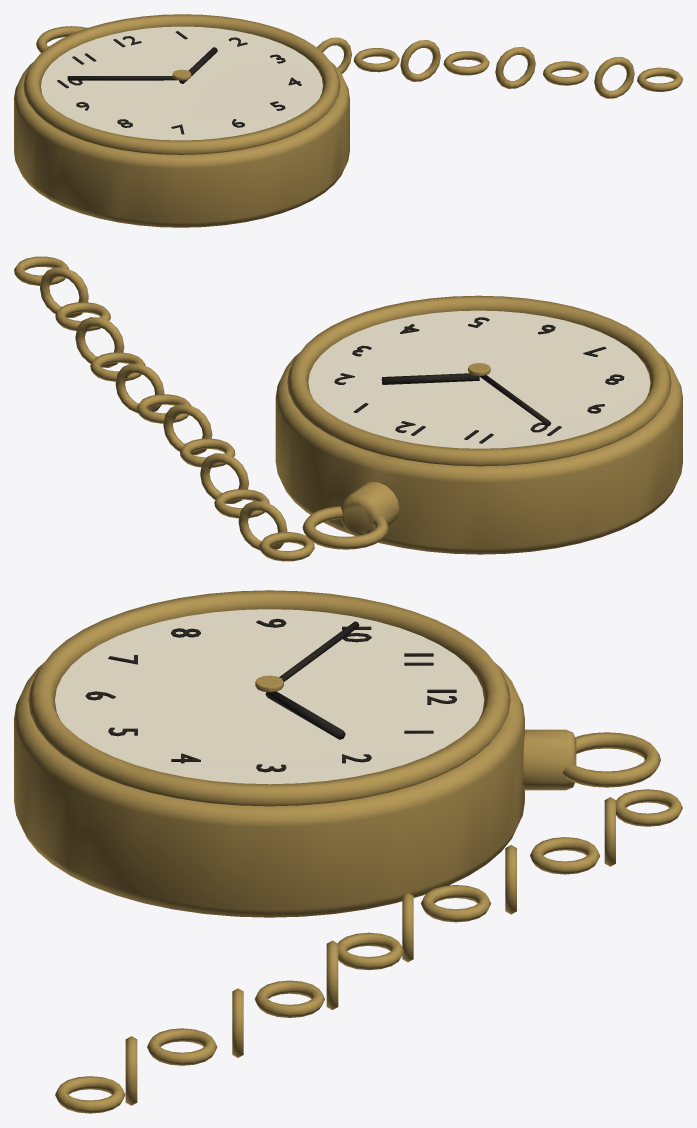
The model's file is rpg-mansion-mystery-pocket-watch-01.glb.
The picture shows the model from 3 angles, top to bottom: view 1: azimuth 30°, elevation 25°; view 2: azimuth 150°, elevation 25°; view 3: azimuth 270°, elevation 25°; orthographic projection. The views are drawn at different scales.
Parts seen in each view (by area): view 1: rpg-mansion-mystery-pocket-watch-01; view 2: rpg-mansion-mystery-pocket-watch-01; view 3: rpg-mansion-mystery-pocket-watch-01.
Boxes of the visible parts, bbox=[...] form: rpg-mansion-mystery-pocket-watch-01: bbox=[14, 14, 682, 227]; rpg-mansion-mystery-pocket-watch-01: bbox=[14, 256, 682, 561]; rpg-mansion-mystery-pocket-watch-01: bbox=[14, 590, 682, 1113].
Bounding box in the file's own units: 0.105 × 0.015 × 0.068.
